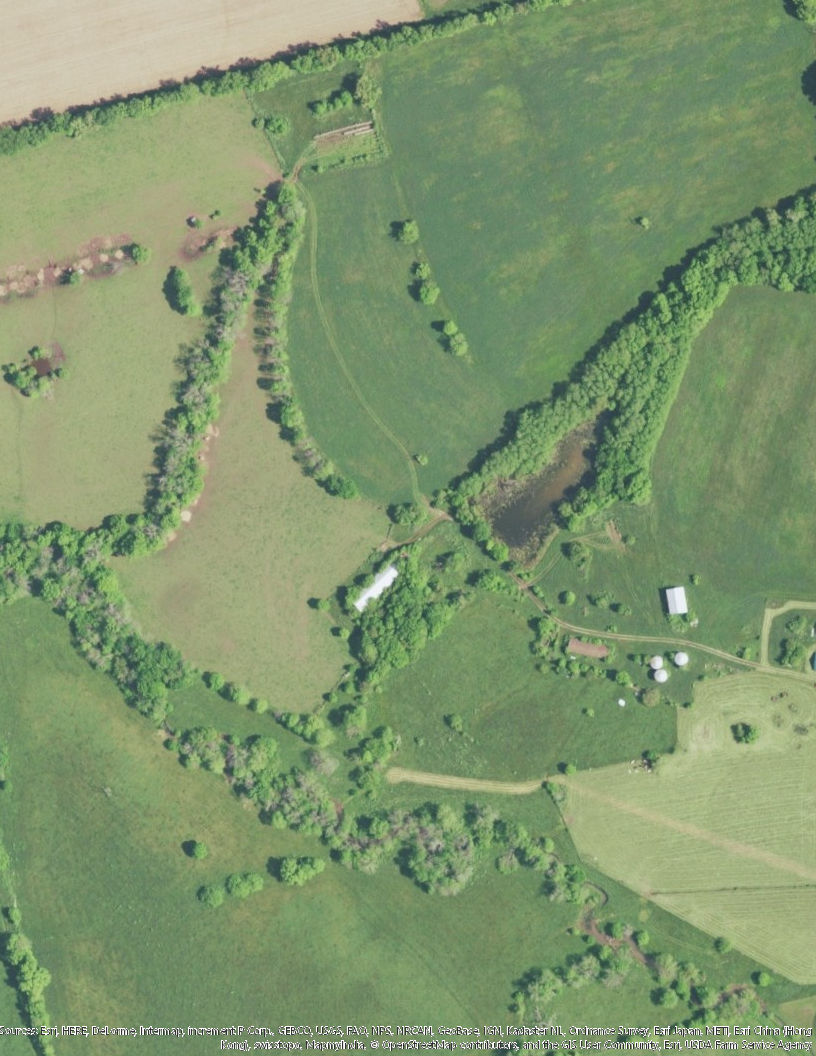cafo: (344, 559, 406, 618)
